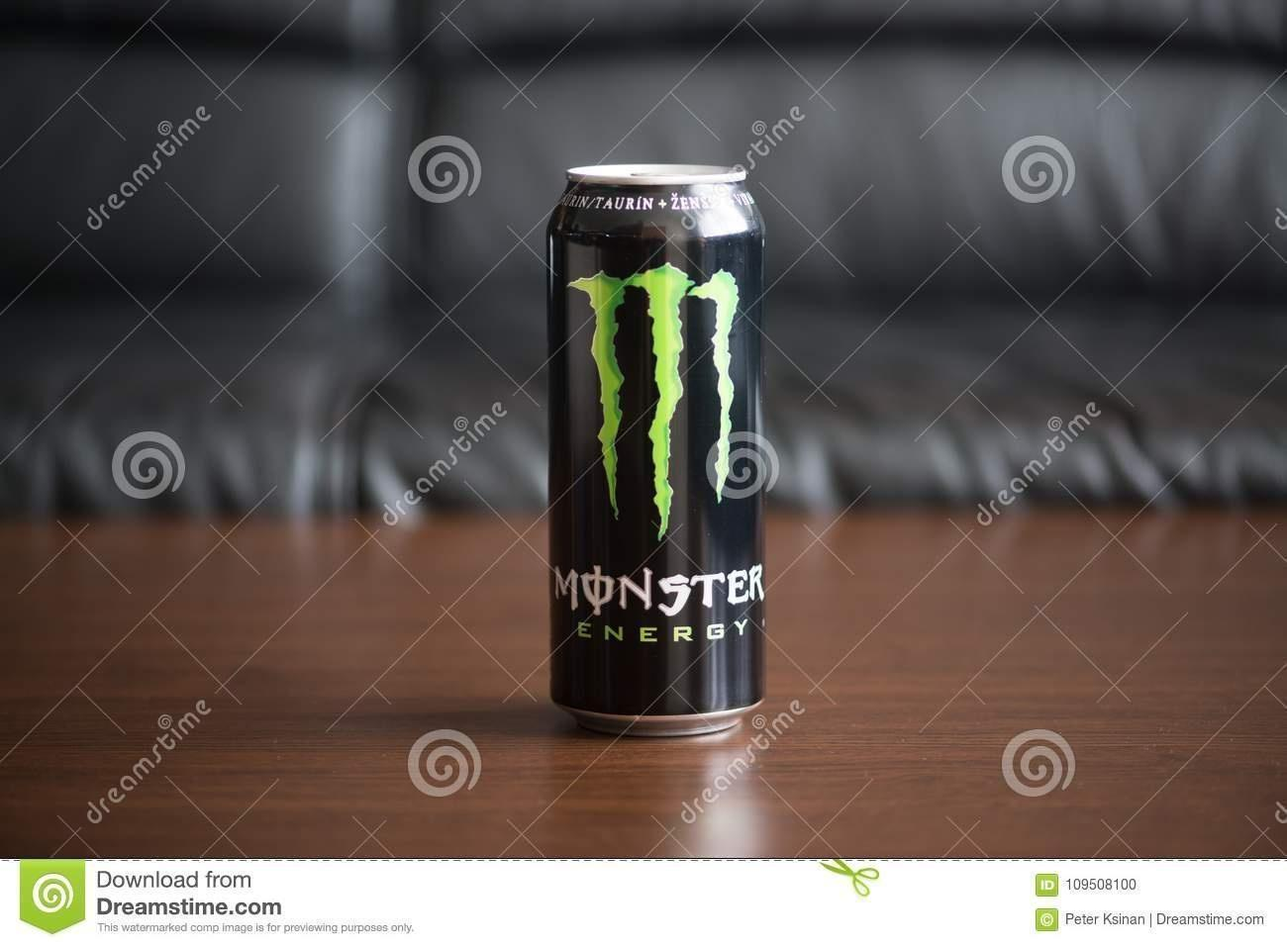tin can: (545, 161, 771, 737)
